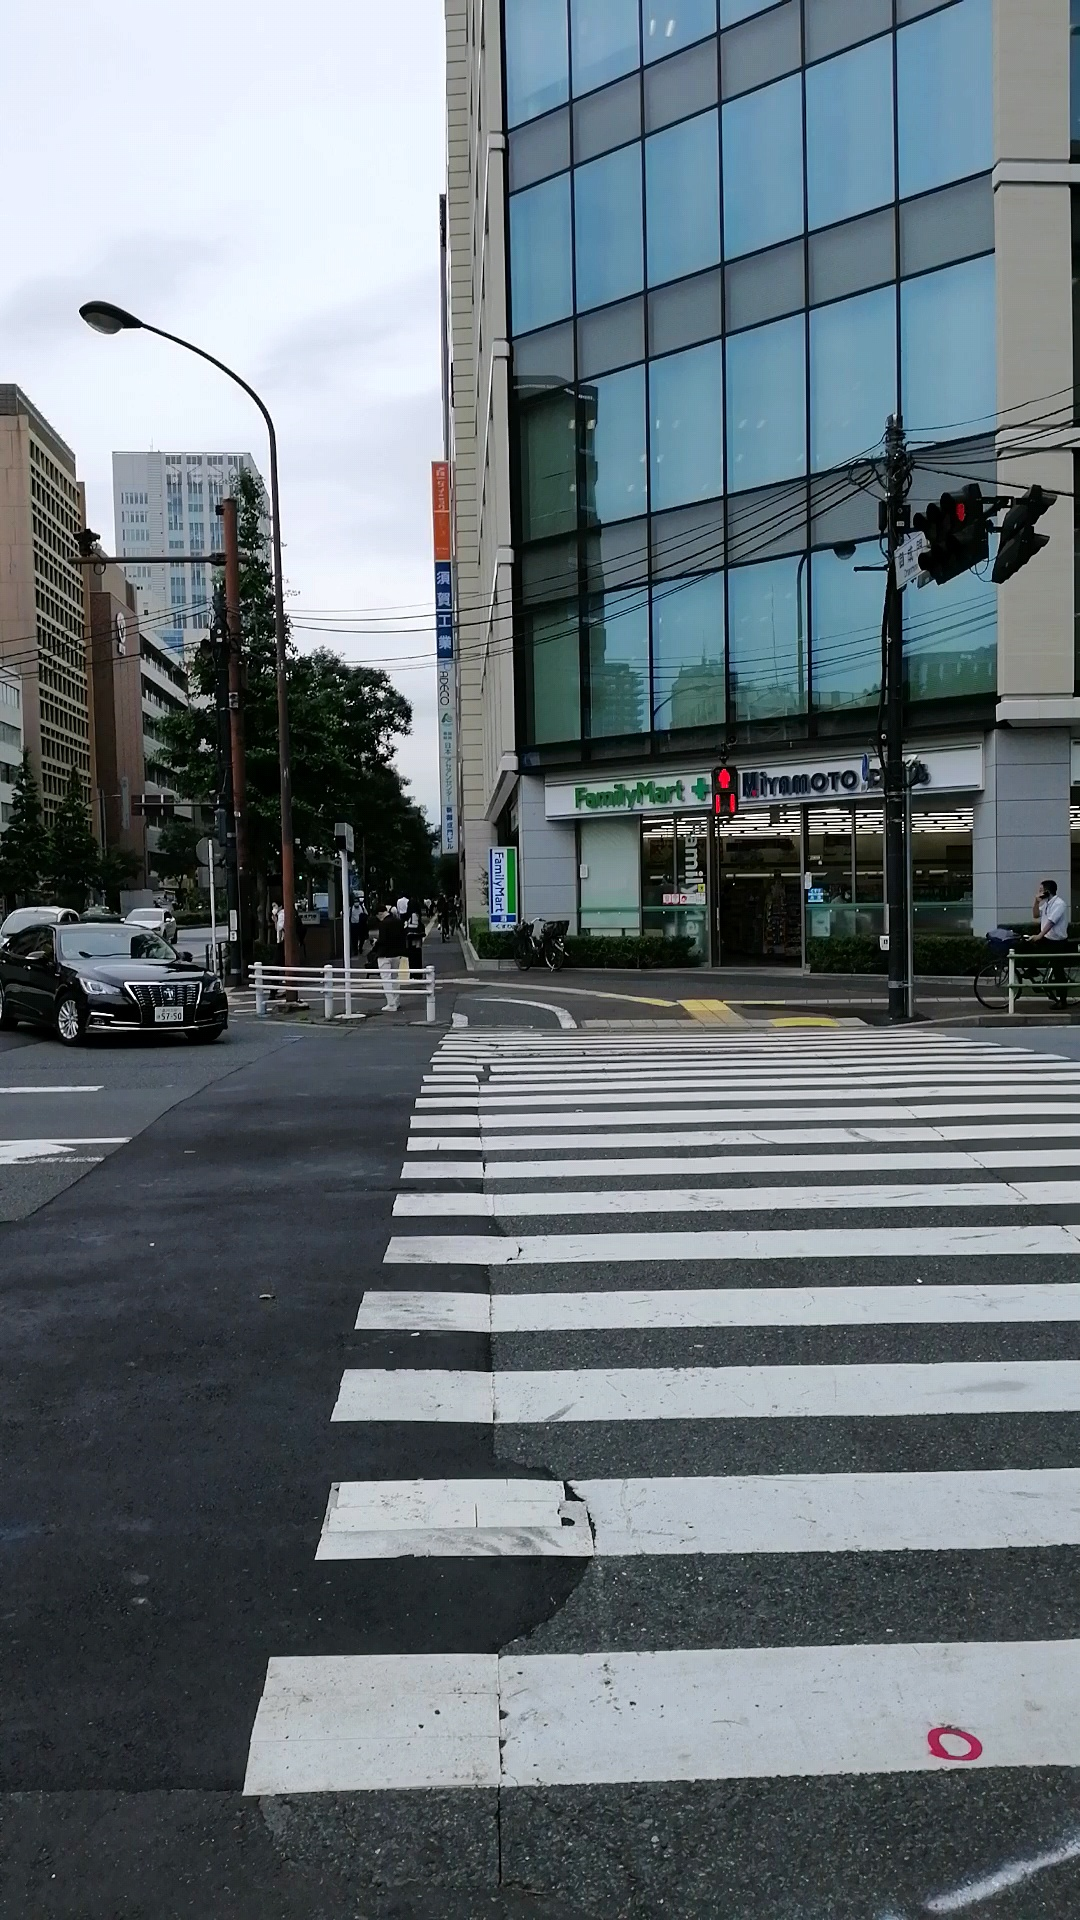red: (708, 764, 738, 818)
